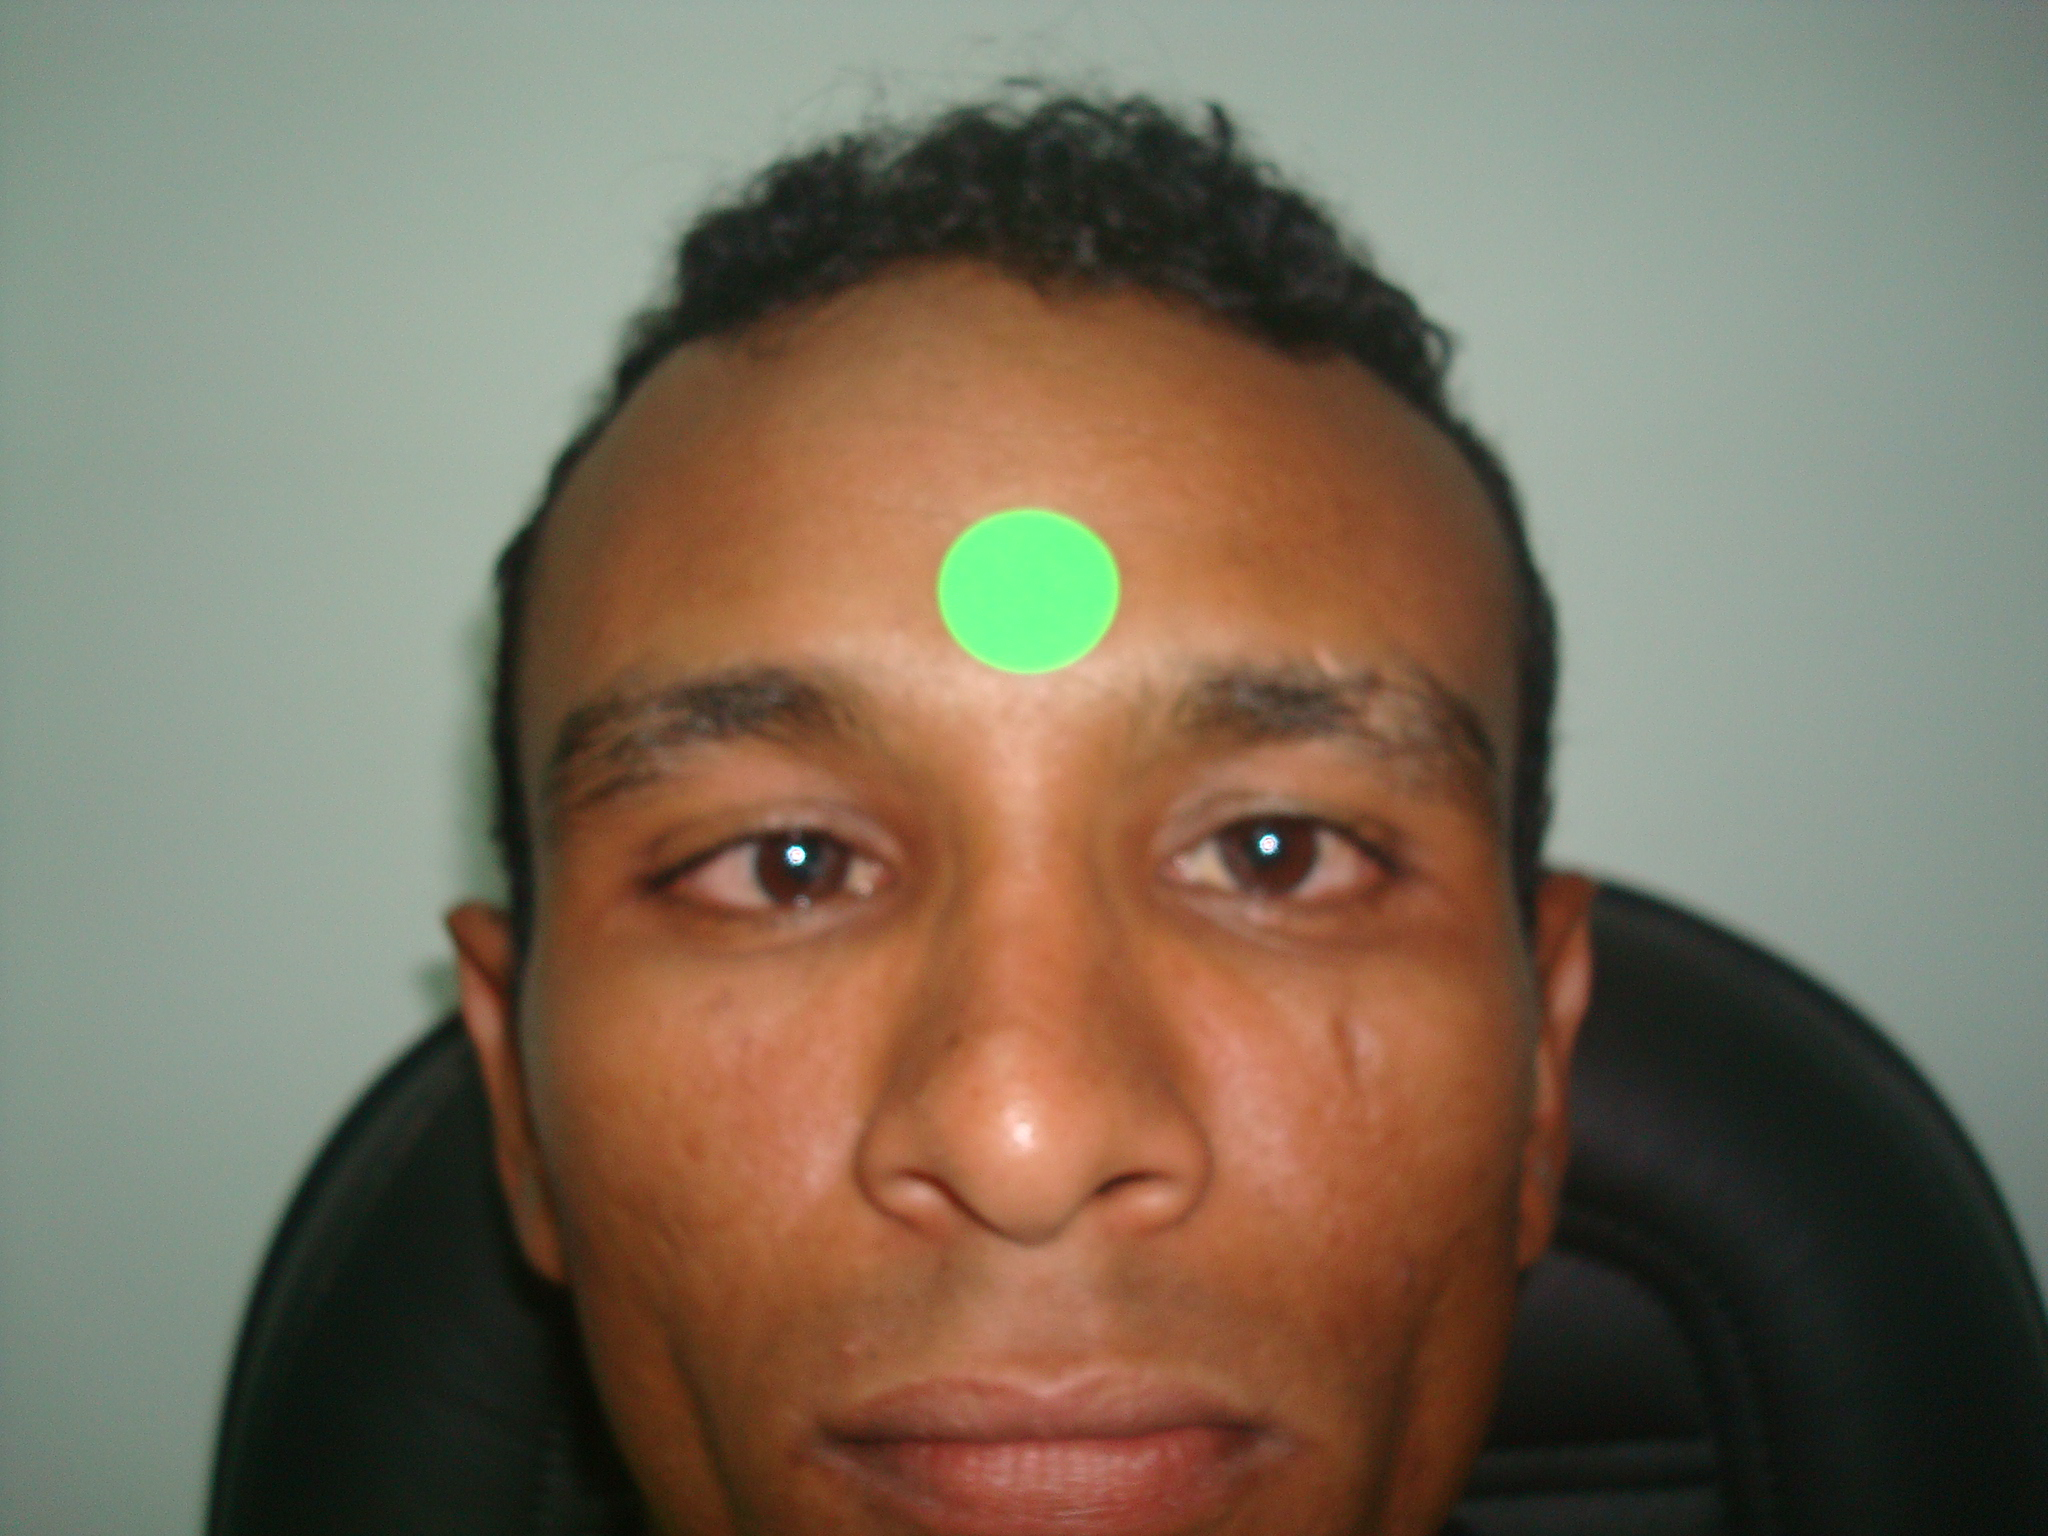flash: (785, 842, 808, 866), (1261, 837, 1277, 854)
limbo: (1218, 808, 1314, 894), (760, 824, 843, 904)
